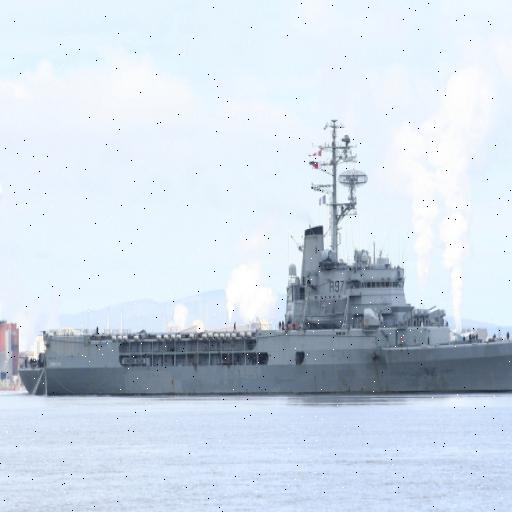Portanaves: (9, 113, 512, 396)
